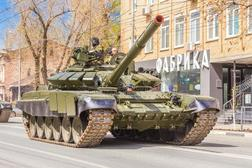t72: (18, 11, 220, 147)
